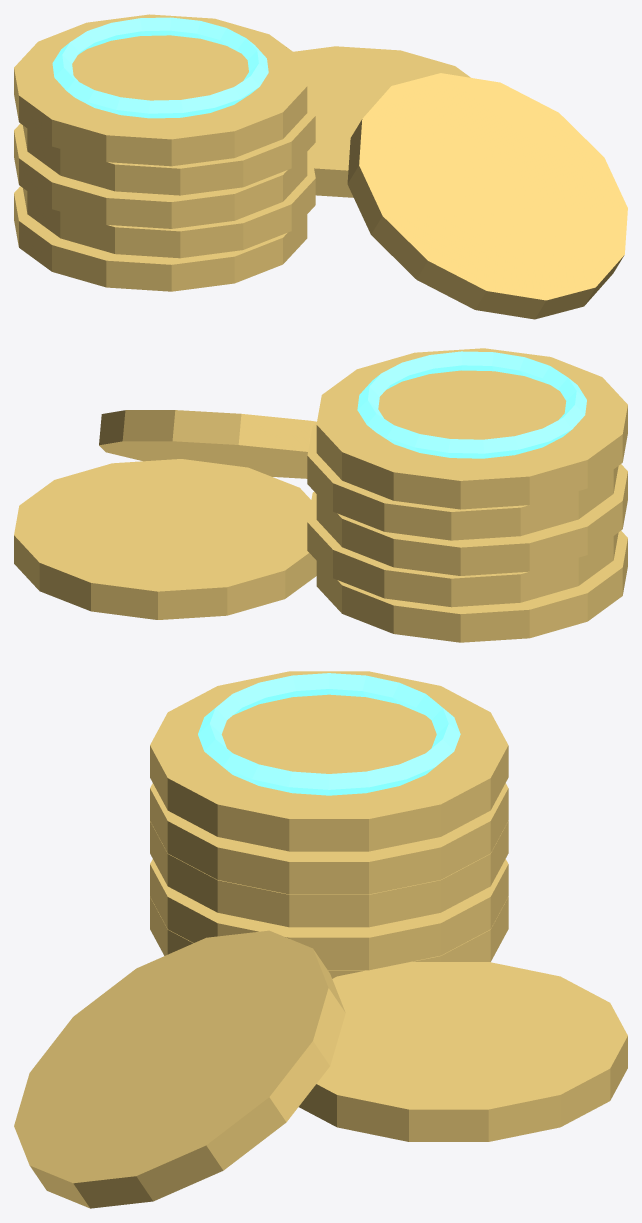
File: item_ancient_coin.glb
The picture shows the model from 3 angles, top to bottom: view 1: azimuth 30°, elevation 25°; view 2: azimuth 150°, elevation 25°; view 3: azimuth 270°, elevation 25°; orthographic projection. The views are drawn at different scales.
Parts seen in each view (by area): view 1: item_ancient_coin_gold, item_ancient_coin_glow; view 2: item_ancient_coin_gold, item_ancient_coin_glow; view 3: item_ancient_coin_gold, item_ancient_coin_glow.
Boxes of the visible parts, <box> form: item_ancient_coin_gold: <box>14,14,627,319</box>; item_ancient_coin_glow: <box>52,17,268,118</box>; item_ancient_coin_gold: <box>14,348,627,642</box>; item_ancient_coin_glow: <box>357,351,586,458</box>; item_ancient_coin_gold: <box>14,671,627,1208</box>; item_ancient_coin_glow: <box>198,673,460,795</box>.
Size of the model in its own units: 1.21 by 0.5287 by 1.03.
